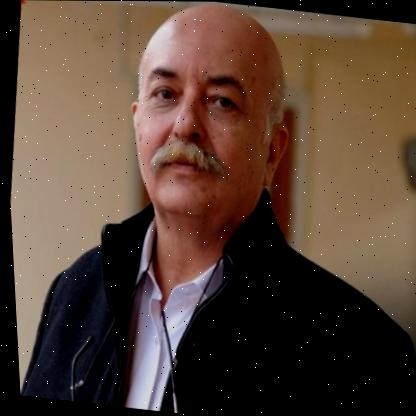person: (114, 1, 312, 238)
